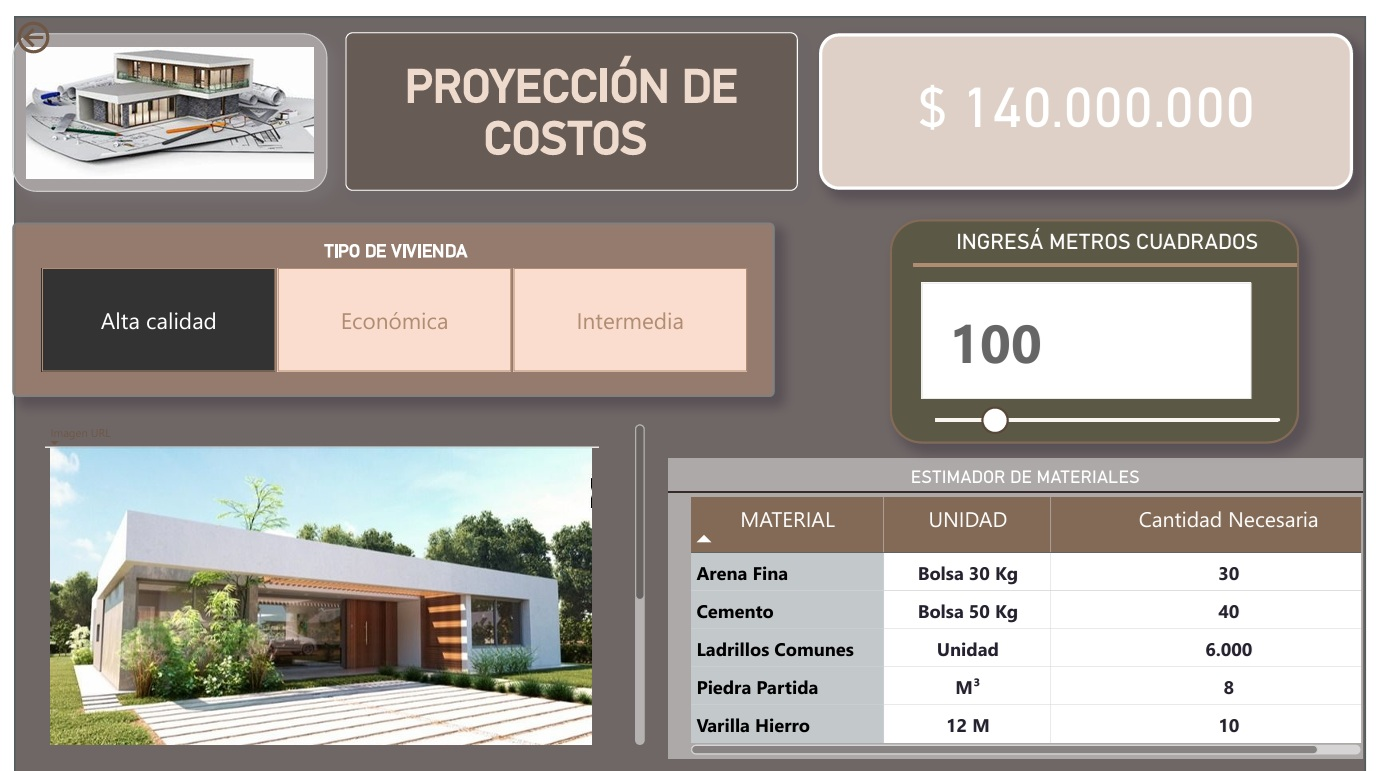

The dashboard page shown, as its layout file describes it:
{"tool":"powerbi","page":{"name":"CONSTRUCCIÓN: SIMULADOR DE COSTOS","canvas":[1280,720],"ordinal":0},"visuals":[{"type":"shape","box":[2.1,0,1277.9,719.2],"z":0},{"type":"slicer","title":"TIPO DE VIVIENDA","fields":{"Values":["CostosConstrucción.Tipo de vivienda"]},"box":[0,195.4,720.8,165.1],"z":1000},{"type":"slicer","title":"INGRESÁ METROS CUADRADOS","fields":{"Values":["MetrosCuadrados.MetrosCuadrados"]},"box":[829.8,192,387.3,211.5],"z":2000},{"type":"card","fields":{"Values":["CostosConstrucción.Costo Total"]},"box":[763.1,16.3,504.4,148.1],"z":3000},{"type":"tableEx","title":"ESTIMADOR DE MATERIALES","fields":{"Values":["Materiales.Material","Materiales.Unidad","Materiales.Cantidad de Materiales"]},"box":[621.5,417.7,656.8,284.6],"z":4000},{"type":"textbox","box":[314.9,15.2,427.8,149.9],"z":5000},{"type":"image","box":[0,15.8,298,150],"z":6000},{"type":"tableEx","fields":{"Values":["EstiloVivienda.Imagen URL"]},"box":[30.3,385.7,567.6,303.2],"z":7000},{"type":"actionButton","box":[0,0,100,40],"z":8000}]}

Visuals, with their boxes in screenshot pixels (x1, y1, x2, y2), scaled from the page's 1280x720 canvas onto the 1381x771 screenshot:
shape: [x1=2, y1=0, x2=1380, y2=770]
"TIPO DE VIVIENDA" slicer: [x1=0, y1=209, x2=778, y2=386]
"INGRESÁ METROS CUADRADOS" slicer: [x1=895, y1=206, x2=1313, y2=432]
card - CostosConstrucción.Costo Total: [x1=823, y1=17, x2=1368, y2=176]
"ESTIMADOR DE MATERIALES" tableEx: [x1=671, y1=447, x2=1379, y2=752]
textbox: [x1=340, y1=16, x2=801, y2=177]
image: [x1=0, y1=17, x2=322, y2=178]
tableEx - EstiloVivienda.Imagen URL: [x1=33, y1=413, x2=645, y2=738]
actionButton: [x1=0, y1=0, x2=108, y2=43]
